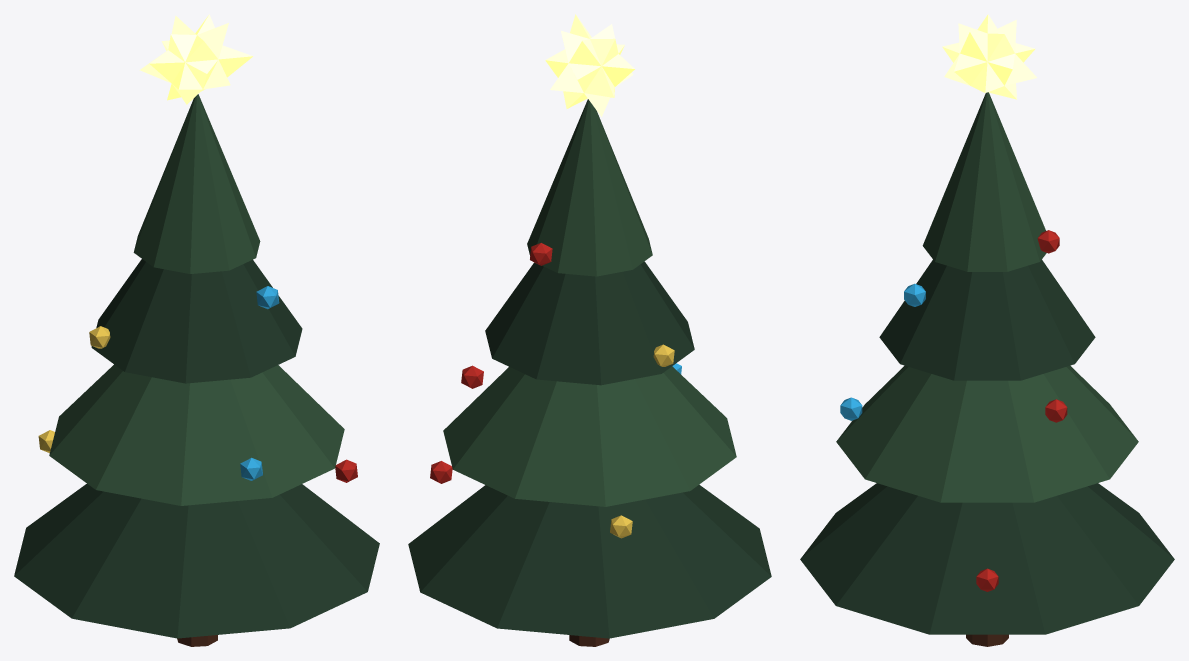
The model's file is WH_PocketSpruce.glb.
3 renders of one model, left to right at view 1: azimuth 30°, elevation 25°; view 2: azimuth 150°, elevation 25°; view 3: azimuth 270°, elevation 25°, orthographic.
Visible parts, largest first — view 1: Impossible pocket spruce; view 2: Impossible pocket spruce; view 3: Impossible pocket spruce.
Part boxes in pixels (x1,y1,x2,y2): Impossible pocket spruce: [14, 14, 379, 646]; Impossible pocket spruce: [408, 14, 771, 646]; Impossible pocket spruce: [800, 14, 1174, 646].
Size of the model in its own units: 0.5034 by 0.9451 by 0.52.
